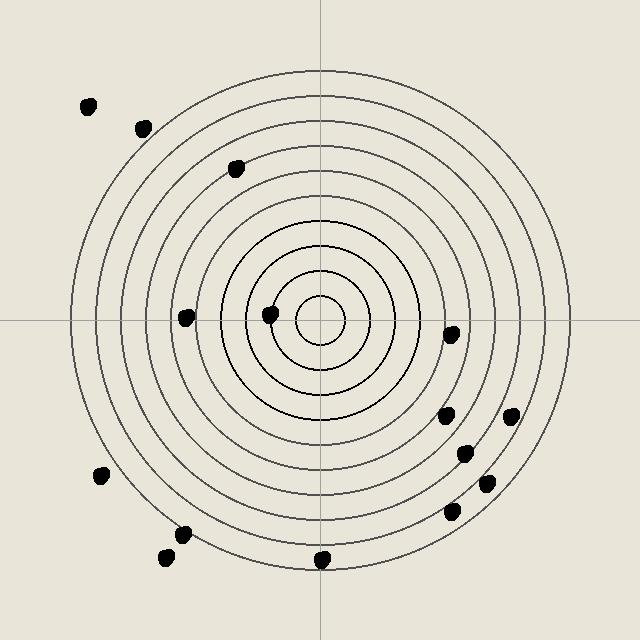random_scatter: (259, 304, 279, 324), (77, 96, 97, 116), (132, 118, 152, 138), (435, 405, 455, 425), (500, 406, 520, 426), (441, 501, 461, 521), (440, 324, 460, 344), (476, 473, 496, 493), (311, 549, 331, 569), (172, 524, 192, 544), (454, 443, 474, 463), (175, 307, 195, 327), (155, 547, 175, 567), (225, 158, 245, 178), (90, 465, 110, 485)
